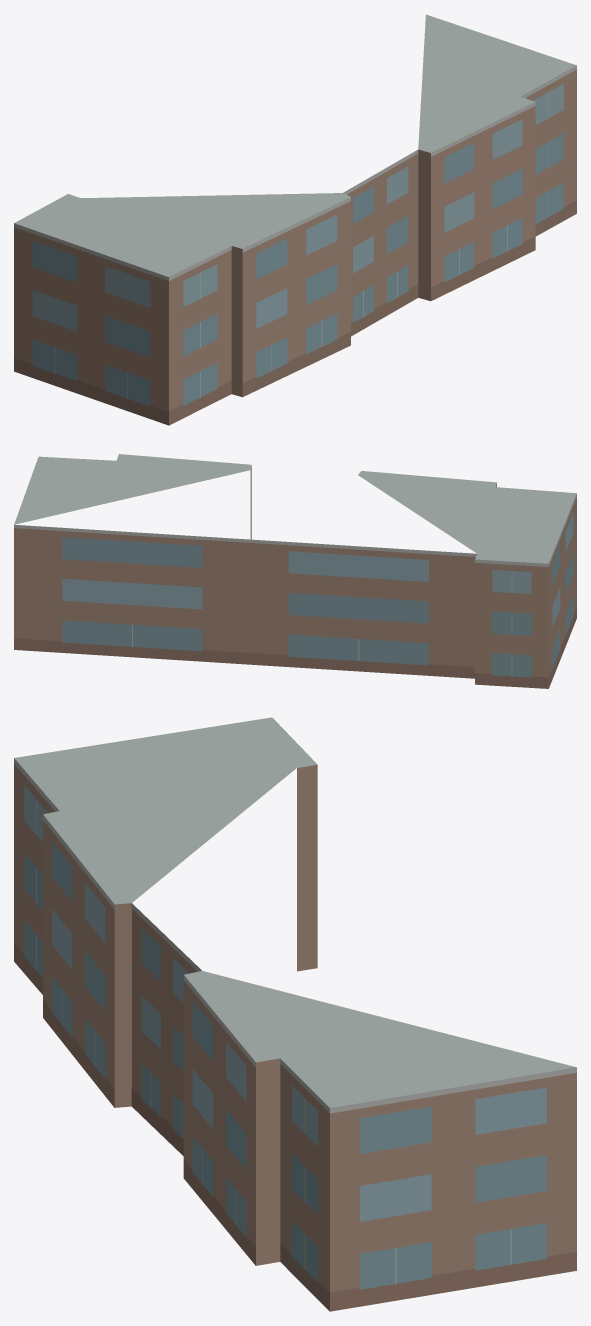
Rendered from survey-upis-32975263.glb.
3 renders of one model, top to bottom at view 1: azimuth 30°, elevation 25°; view 2: azimuth 150°, elevation 25°; view 3: azimuth 270°, elevation 25°, orthographic. The views are drawn at different scales.
Parts seen in each view (by area): view 1: survey-upis-32975263.tmp; view 2: survey-upis-32975263.tmp; view 3: survey-upis-32975263.tmp.
Boxes of the visible parts, x1,y1,x2,y2 form: survey-upis-32975263.tmp: (14, 14, 576, 425); survey-upis-32975263.tmp: (14, 454, 576, 688); survey-upis-32975263.tmp: (14, 717, 576, 1311).
Bounding box in the file's own units: 37.71 × 9.15 × 22.95.
